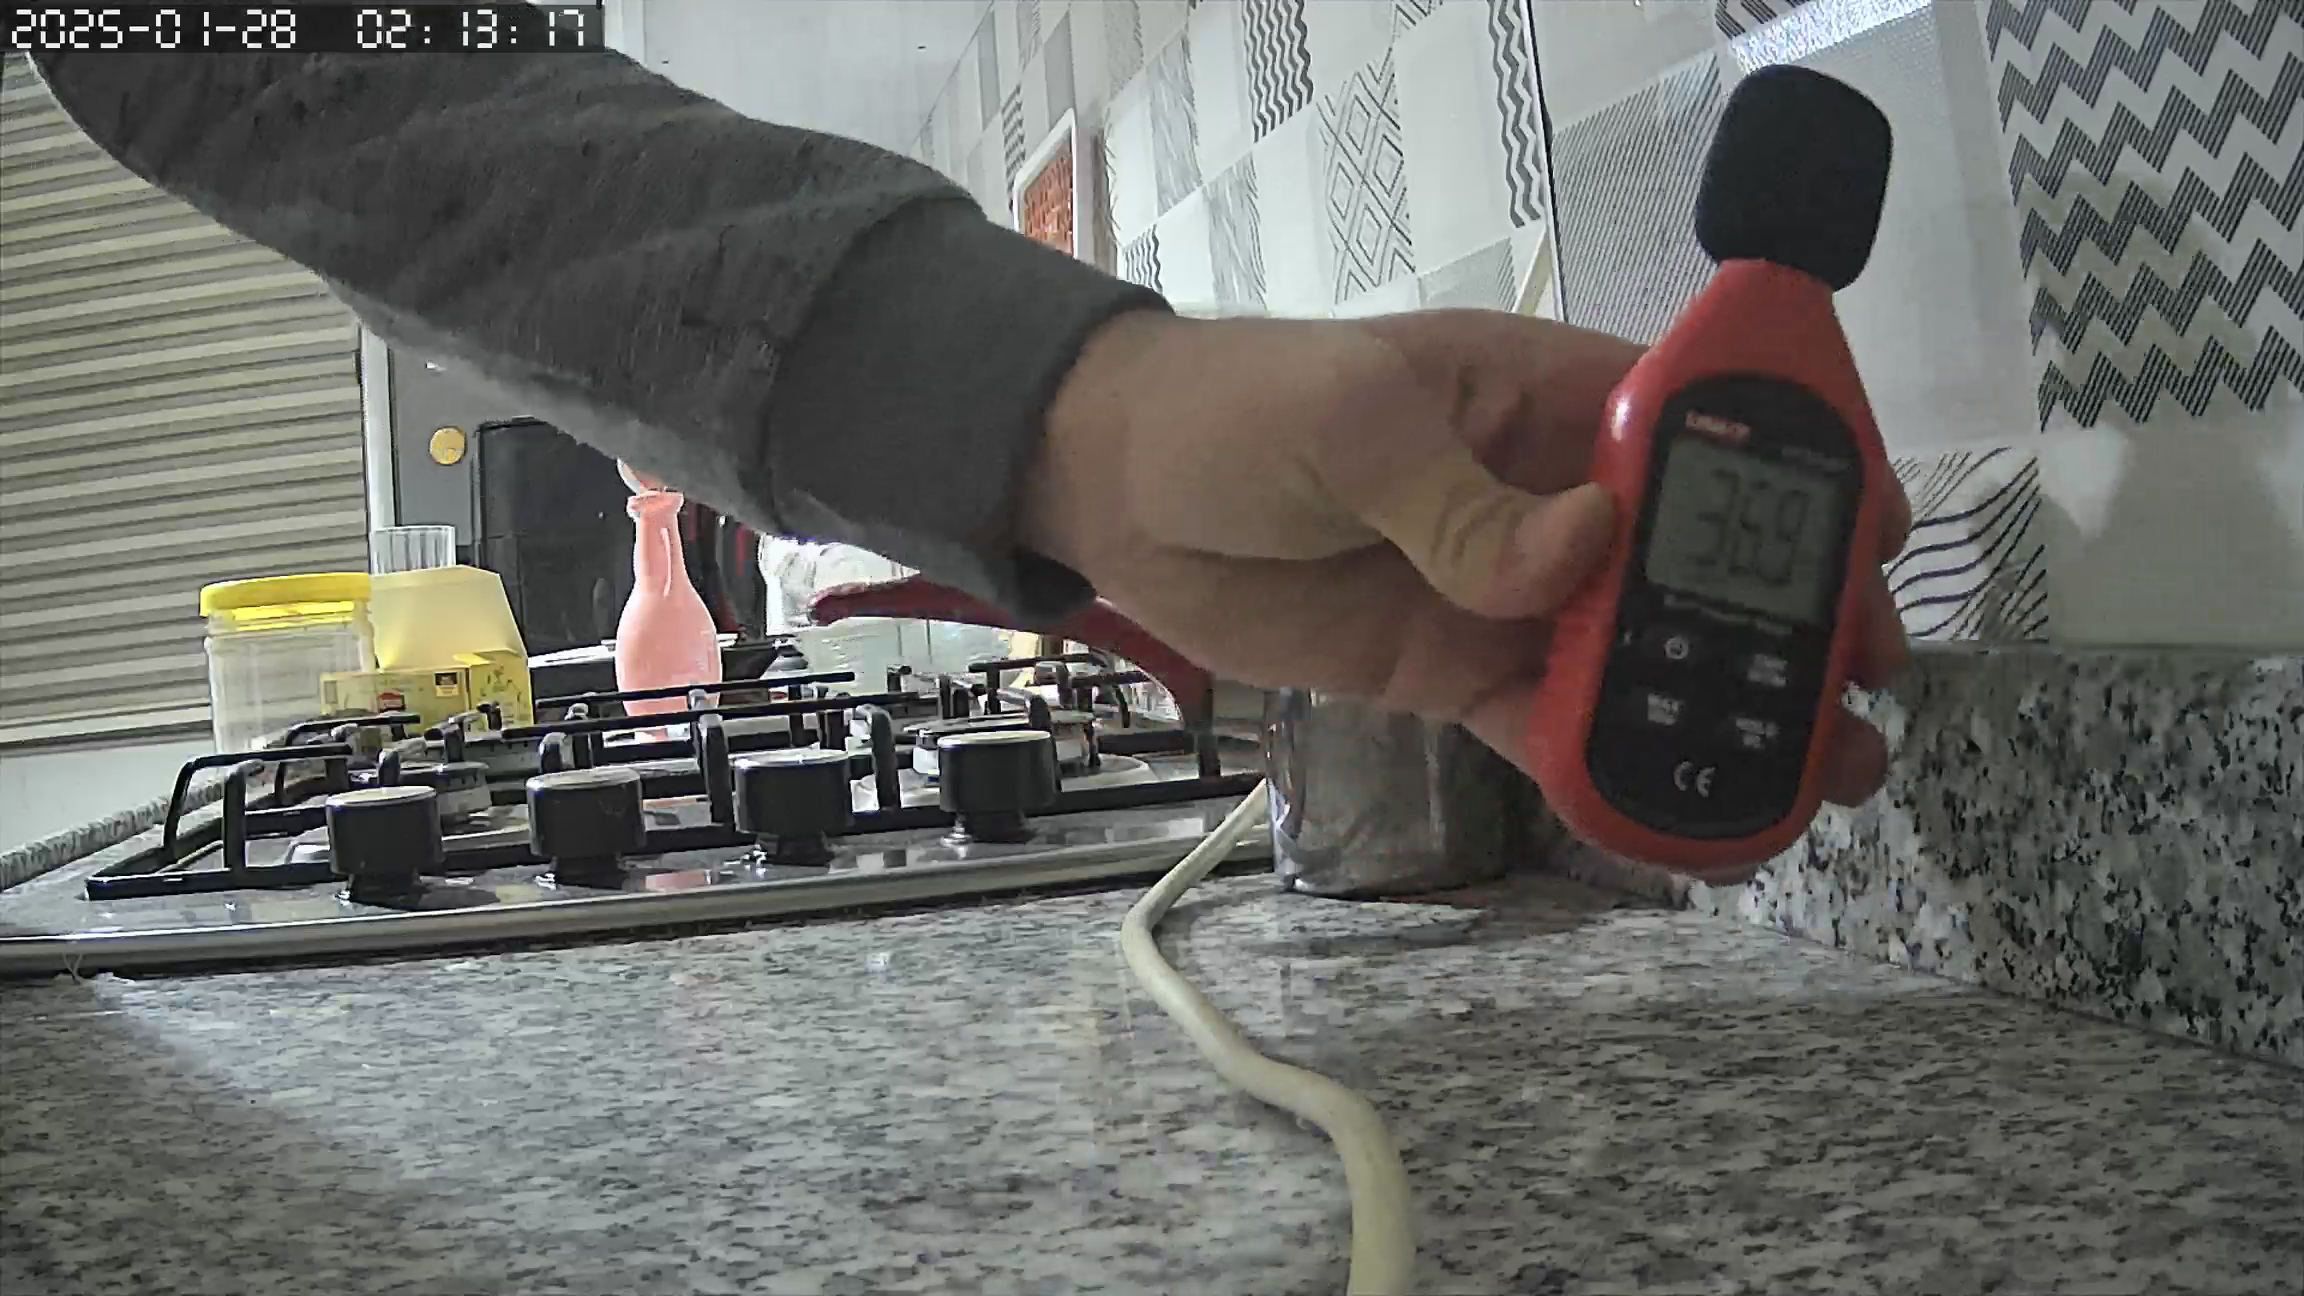screen: (1647, 437, 1839, 623)
